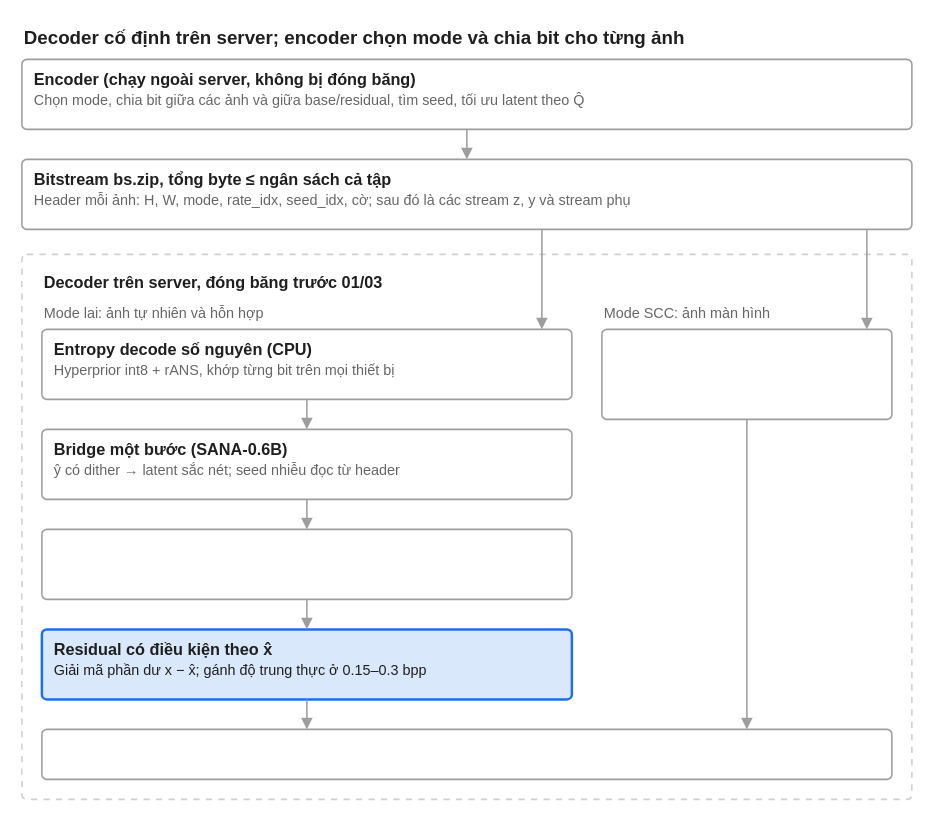
The diagram is 935 pixels wide and 821 high, and some of its shapes have lost their labels. Here are the shapes that lost their labels. From the top down, the box of each, then its label:
(600, 328, 892, 420): VVC-SCC decoder VTM 23.8, có sẵn trong devkit IBC, palette, 4:4:4
(40, 528, 572, 600): DC-AE decoder Latent f32c32 → ảnh base x̂ (hiện mất 4.6 s/ảnh trên T4)
(40, 728, 892, 780): Ảnh PNG đầu ra cho từng ảnh
